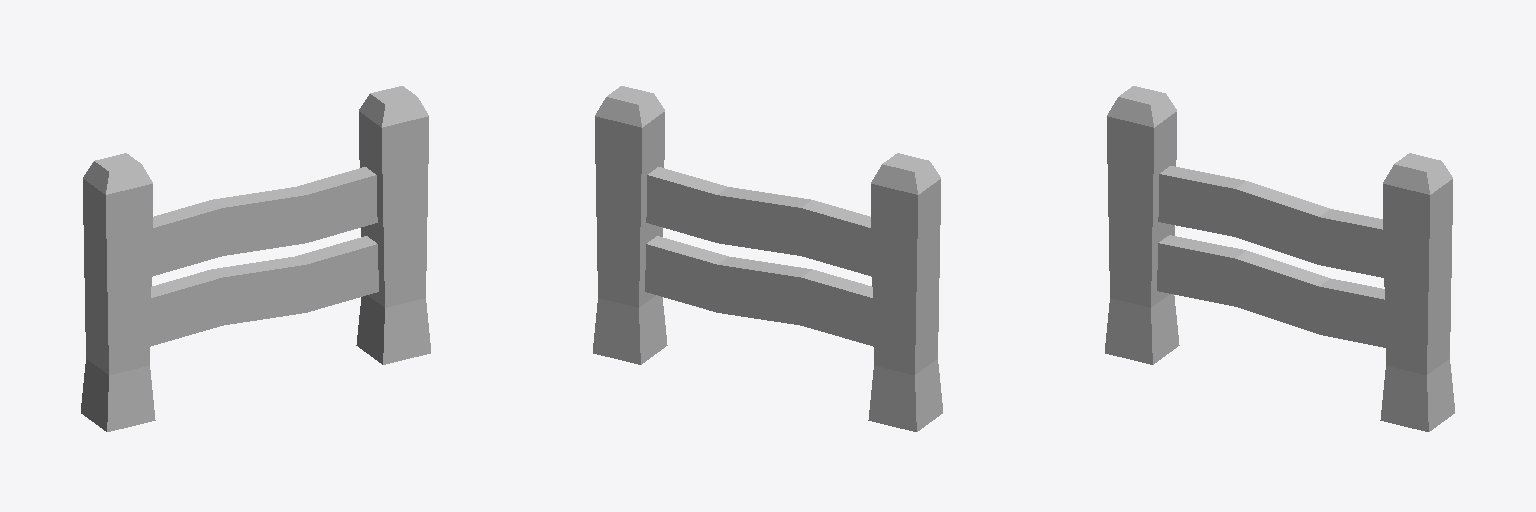
The model's file is aFence0.obj.
3 renders of one model, left to right at view 1: azimuth 30°, elevation 25°; view 2: azimuth 150°, elevation 25°; view 3: azimuth 330°, elevation 25°, orthographic.
Visible parts, largest first — view 1: Cube_Cube.029; view 2: Cube_Cube.029; view 3: Cube_Cube.029.
Part boxes in pixels (bbox=[...]): Cube_Cube.029: bbox=[81, 86, 430, 431]; Cube_Cube.029: bbox=[593, 86, 942, 431]; Cube_Cube.029: bbox=[1105, 86, 1454, 431].
Size of the model in its own units: 0.648 by 0.4854 by 0.0923.